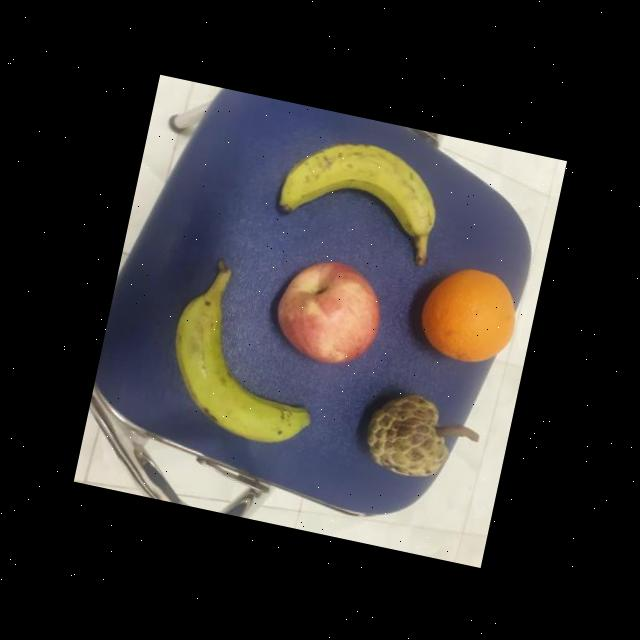Sakya fruit: (352, 370, 464, 487)
apple: (258, 244, 392, 374)
banana: (155, 252, 341, 454), (269, 120, 451, 268)
orange: (402, 253, 526, 373)
